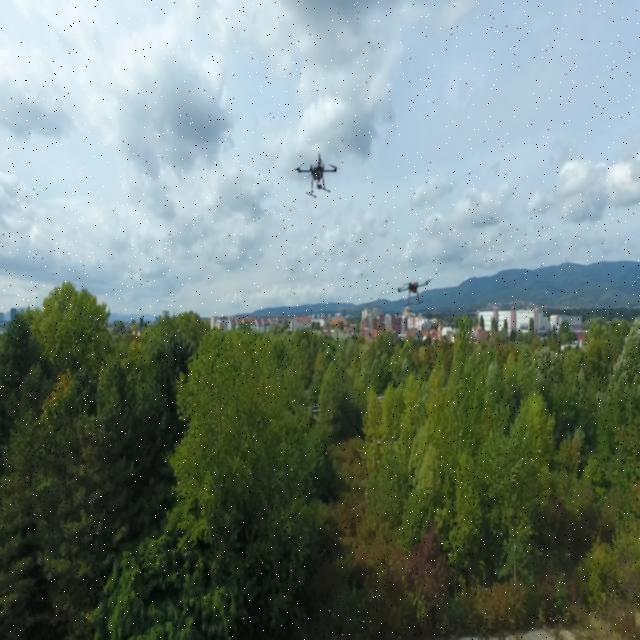UAV: (293, 144, 342, 204), (389, 276, 438, 306)
